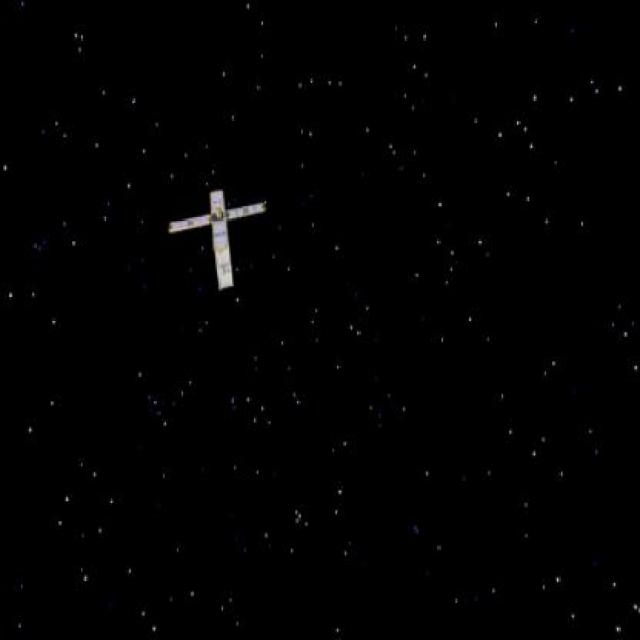satellite: (171, 183, 279, 298)
